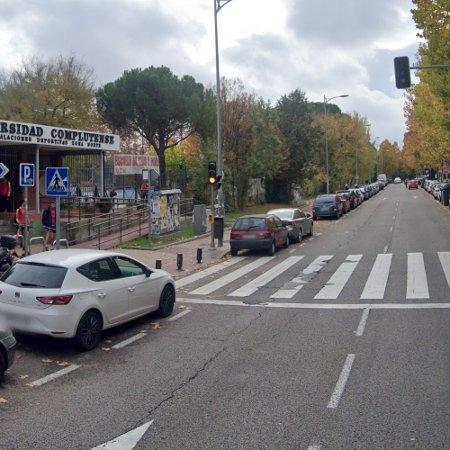crosswalks: (174, 251, 450, 301)
